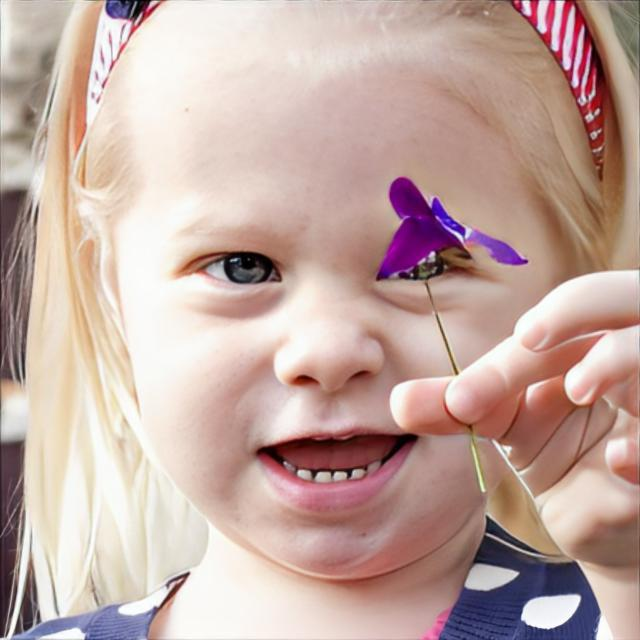surprise: (114, 0, 562, 585)
